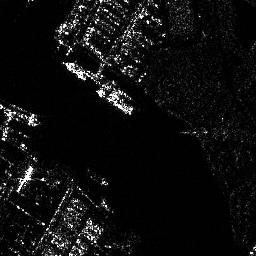ship: (94, 88, 134, 114), (63, 62, 88, 81)
